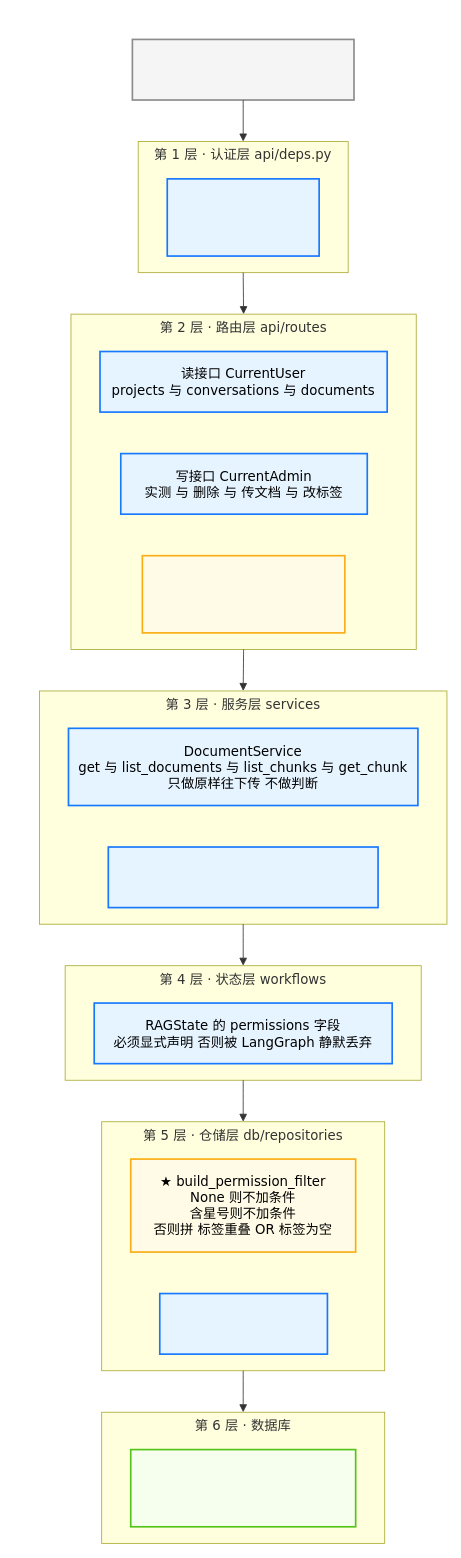
Image size: 461x1558. Some labels were removed from this diagram. The shapes that lost their labels are listed below. From the top down, each one's centre as x and y in pixels, then its label:
[242,69]: HTTP 请求 带 Authorization Bearer 令牌
[243,217]: get_current_user 验签 查库 判状态 解出 User 实体
[243,593]: ★ 翻译动作 _viewer_tags admin 返回 None 普通用户返回其有效标签
[242,877]: ChatService stream_answer 把标签写进 RAGState
[243,1323]: conversation_repo 加 user_id 等值过滤
[242,1487]: PostgreSQL 数组重叠运算 加 OR 公开分支 走 GIN 索引
